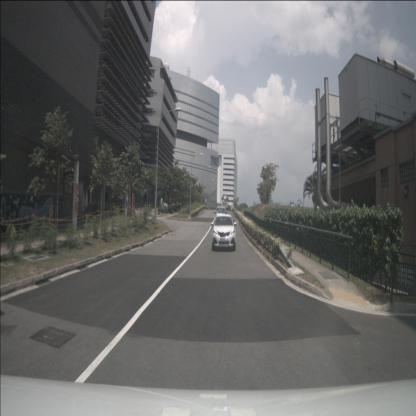cone: (137, 208, 141, 220)
